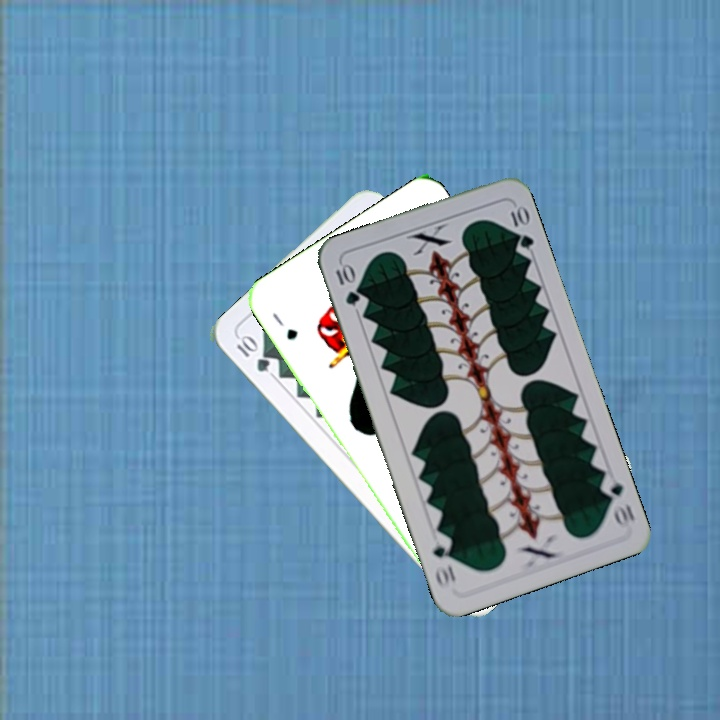G10: (596, 471, 637, 531), (232, 331, 273, 375), (331, 260, 362, 308)
GU: (268, 309, 301, 343)
